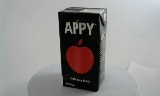appy: (53, 5, 101, 92)
